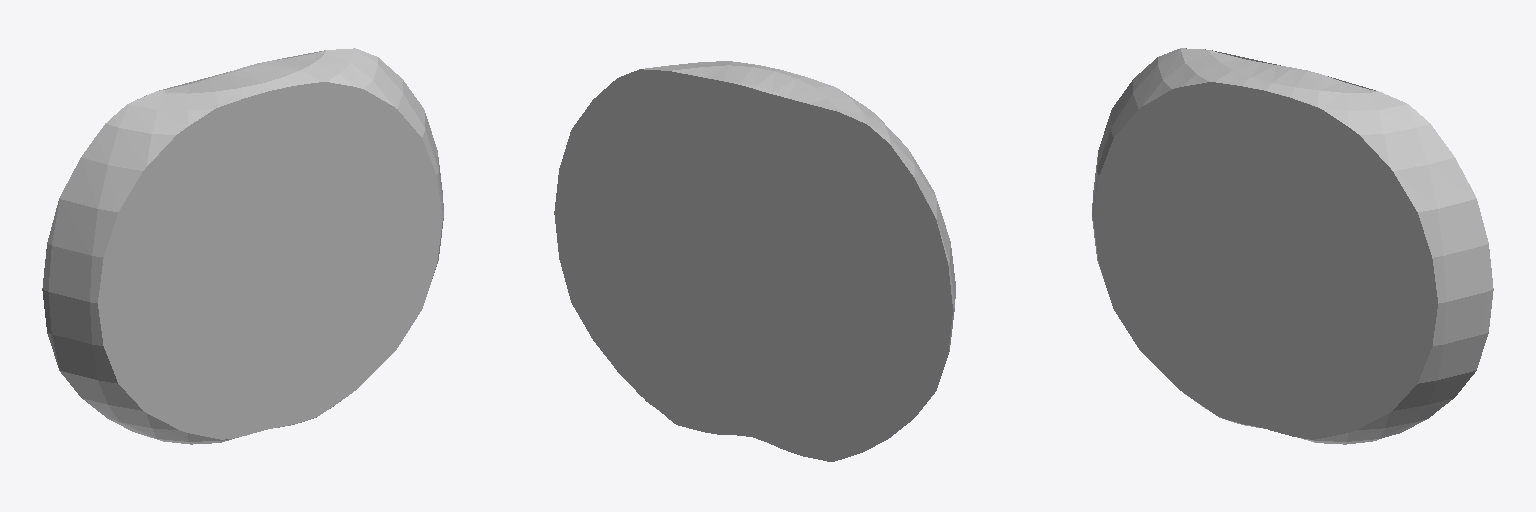
The model's file is apple_slice_07.obj.
The picture shows the model from 3 angles: view 1: azimuth 30°, elevation 25°; view 2: azimuth 150°, elevation 25°; view 3: azimuth 330°, elevation 25°; orthographic projection.
Parts seen in each view (by area): view 1: Apple.Slices.001_Sphere.002; view 2: Apple.Slices.001_Sphere.002; view 3: Apple.Slices.001_Sphere.002.
Part boxes in pixels (bbox=[...]): Apple.Slices.001_Sphere.002: bbox=[42, 48, 443, 444]; Apple.Slices.001_Sphere.002: bbox=[554, 61, 955, 461]; Apple.Slices.001_Sphere.002: bbox=[1092, 48, 1493, 444].
Bounding box in the file's own units: 1.78 × 1.53 × 0.2212.